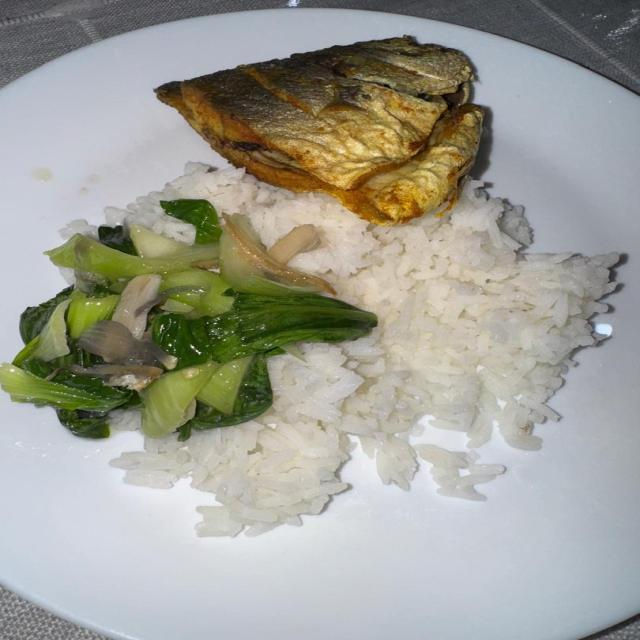Fish: (155, 34, 486, 222)
Plate: (250, 10, 406, 20)
Rice: (76, 160, 626, 530)
Vegetables: (6, 200, 376, 435)
